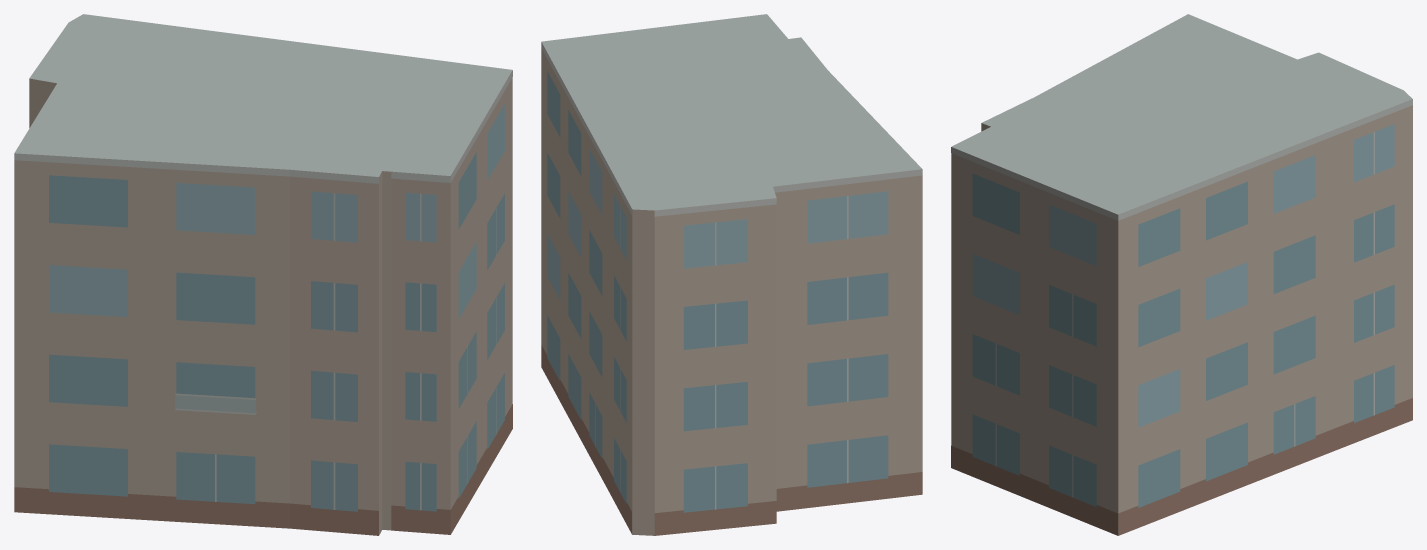
The model's file is survey-upis-32664930.glb.
3 renders of one model, left to right at view 1: azimuth 30°, elevation 25°; view 2: azimuth 150°, elevation 25°; view 3: azimuth 270°, elevation 25°, orthographic. The views are drawn at different scales.
Parts seen in each view (by area): view 1: survey-upis-32664930.tmp; view 2: survey-upis-32664930.tmp; view 3: survey-upis-32664930.tmp.
Boxes of the visible parts, left/top/right/bottom form: survey-upis-32664930.tmp: left=14, top=14, right=512, bottom=535; survey-upis-32664930.tmp: left=541, top=14, right=922, bottom=535; survey-upis-32664930.tmp: left=951, top=14, right=1412, bottom=535.
Bounding box in the file's own units: 17.16 × 12.8 × 16.68.
